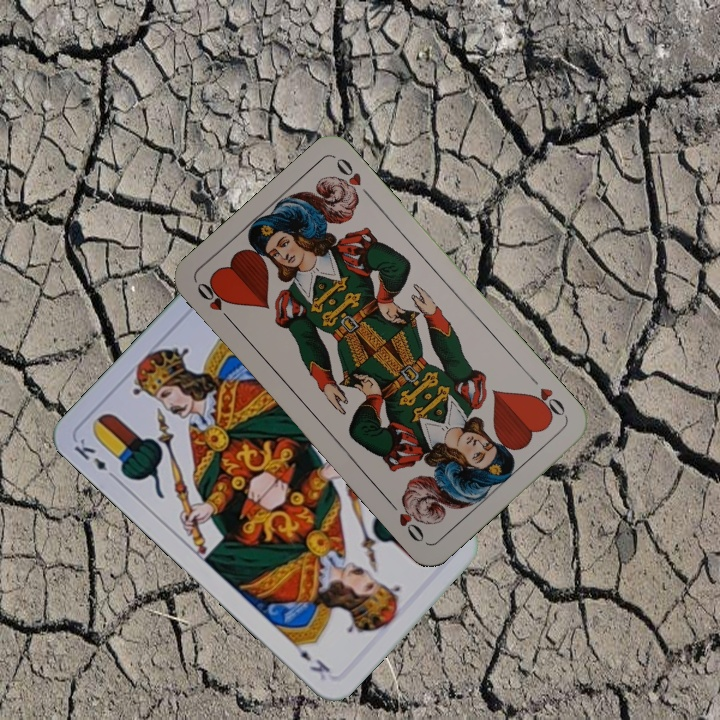EK: (69, 434, 120, 483)
HO: (192, 278, 237, 327), (525, 372, 569, 422)
